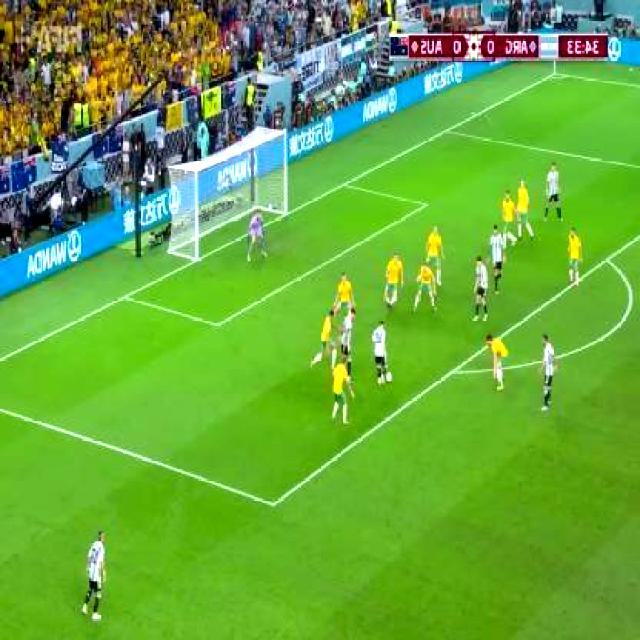bigarea_bottom_inner: (262, 489, 283, 522)
bigarea_top_outter: (438, 120, 452, 140)
bottom_arc_area_intersection: (446, 360, 463, 382)
corner: (548, 69, 560, 82)
smallarea_bottom_inner: (209, 309, 226, 340)
smallarea_bottom_outter: (119, 284, 132, 308)
smallarea_top_inner: (418, 194, 436, 217)
smallarea_top_outter: (337, 176, 349, 196)
top_arc_area_intersection: (600, 249, 615, 271)
